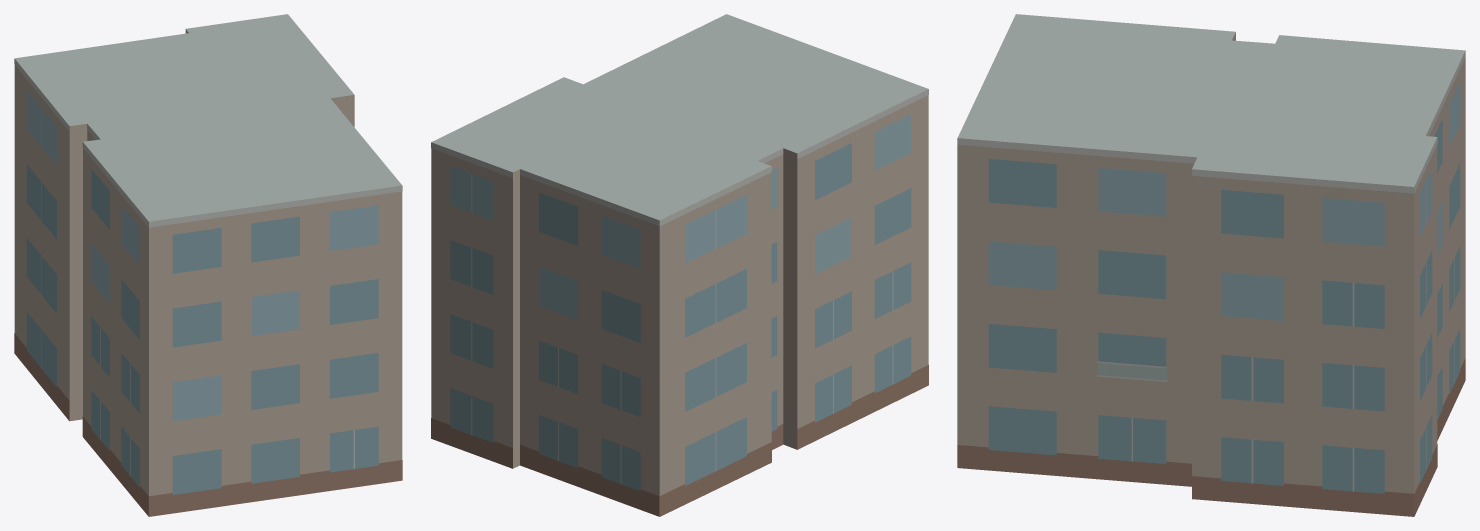
Rendered from survey-upis-32927252.glb.
3 renders of one model, left to right at view 1: azimuth 30°, elevation 25°; view 2: azimuth 150°, elevation 25°; view 3: azimuth 270°, elevation 25°, orthographic. The views are drawn at different scales.
Visible parts, largest first — view 1: survey-upis-32927252.tmp; view 2: survey-upis-32927252.tmp; view 3: survey-upis-32927252.tmp.
Boxes of the visible parts, x1,y1,x2,y2 form: survey-upis-32927252.tmp: [14, 14, 402, 516]; survey-upis-32927252.tmp: [431, 14, 928, 516]; survey-upis-32927252.tmp: [957, 14, 1465, 516].
Size of the model in its own units: 13.73 by 12.2 by 17.04.
